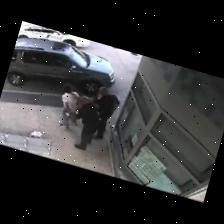person: (94, 87, 119, 139), (75, 97, 99, 150), (60, 85, 79, 129)
